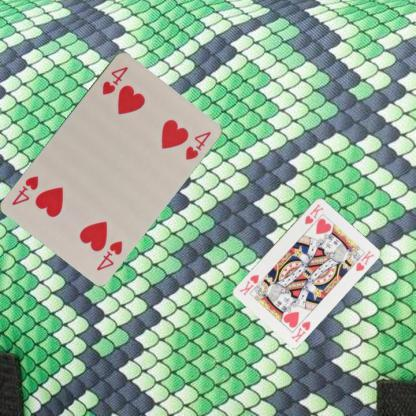4h: (94, 238, 124, 272), (100, 63, 130, 96)
Kh: (288, 318, 312, 343), (302, 201, 325, 225)
